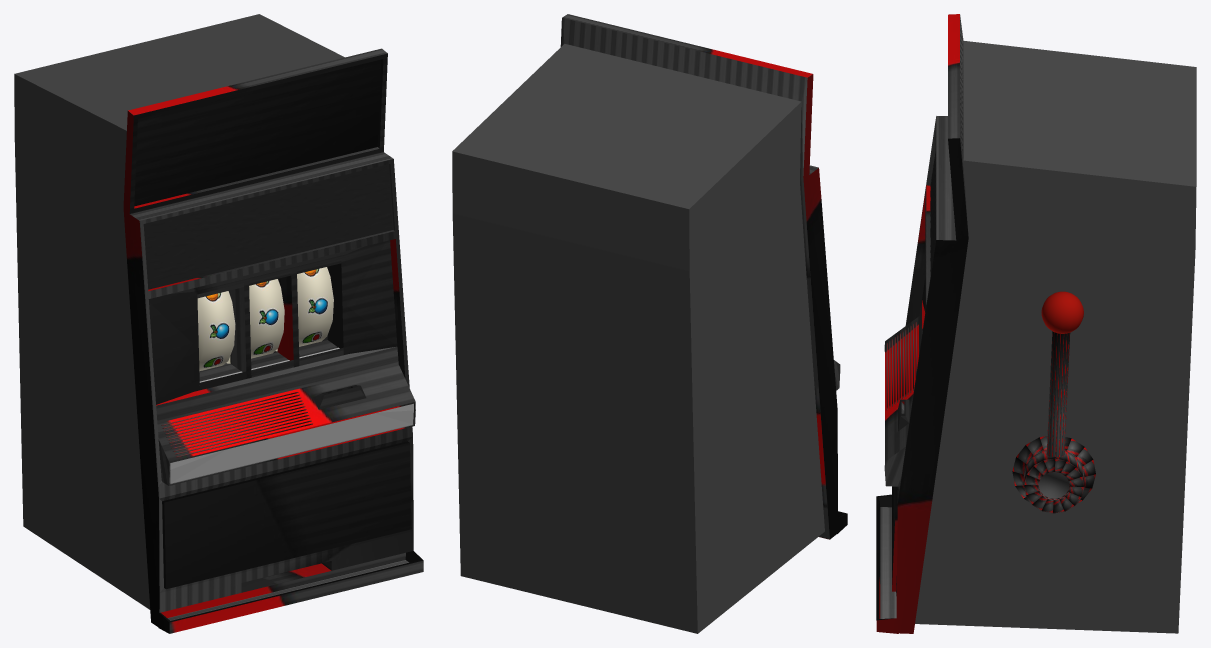
3 views of the same model, side by side, from view 1: azimuth 30°, elevation 25°; view 2: azimuth 150°, elevation 25°; view 3: azimuth 270°, elevation 25° (orthographic). The views are drawn at different scales.
Parts seen in each view (by area): view 1: Cube_002, cylinder, Cylinder_009_Cylinder_018, roll1, roll3, roll2; view 2: Cube_002; view 3: Cube_002, Cylinder_003, handleCylinder, handleRoot, Cylinder_009_Cylinder_018, handleBall, cylinder.
Boxes of the visible parts, x1=… form: Cube_002: x1=14, y1=14, x2=423, y2=633; cylinder: x1=143, y1=164, x2=392, y2=289; Cylinder_009_Cylinder_018: x1=161, y1=392, x2=312, y2=457; roll1: x1=197, y1=291, x2=235, y2=371; roll3: x1=275, y1=267, x2=333, y2=351; roll2: x1=226, y1=279, x2=284, y2=363; Cube_002: x1=452, y1=14, x2=847, y2=633; Cube_002: x1=876, y1=14, x2=1196, y2=633; Cylinder_003: x1=1024, y1=458, x2=1084, y2=513; handleCylinder: x1=1046, y1=331, x2=1070, y2=457; handleRoot: x1=1012, y1=436, x2=1095, y2=503; Cylinder_009_Cylinder_018: x1=886, y1=322, x2=916, y2=409; handleBall: x1=1041, y1=291, x2=1083, y2=333; cylinder: x1=930, y1=151, x2=935, y2=274.
Size of the model in its own units: 5.83 by 9.22 by 5.38.
Materials: 6 (2 with a texture image).
